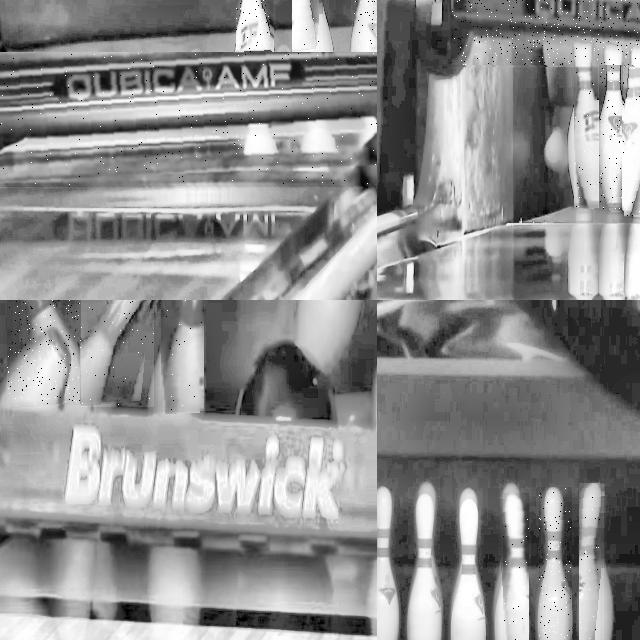bowling-ball: (237, 342, 336, 420)
bowling-pins: (82, 300, 144, 407), (29, 300, 89, 404), (407, 494, 442, 640), (451, 499, 486, 640), (540, 487, 571, 640), (161, 300, 204, 410), (600, 31, 625, 209), (574, 33, 596, 208), (503, 493, 529, 640), (580, 484, 602, 640), (377, 485, 399, 640), (624, 32, 640, 217), (237, 0, 271, 52), (293, 0, 320, 52)
sweep board: (0, 407, 377, 547), (0, 53, 377, 154)
